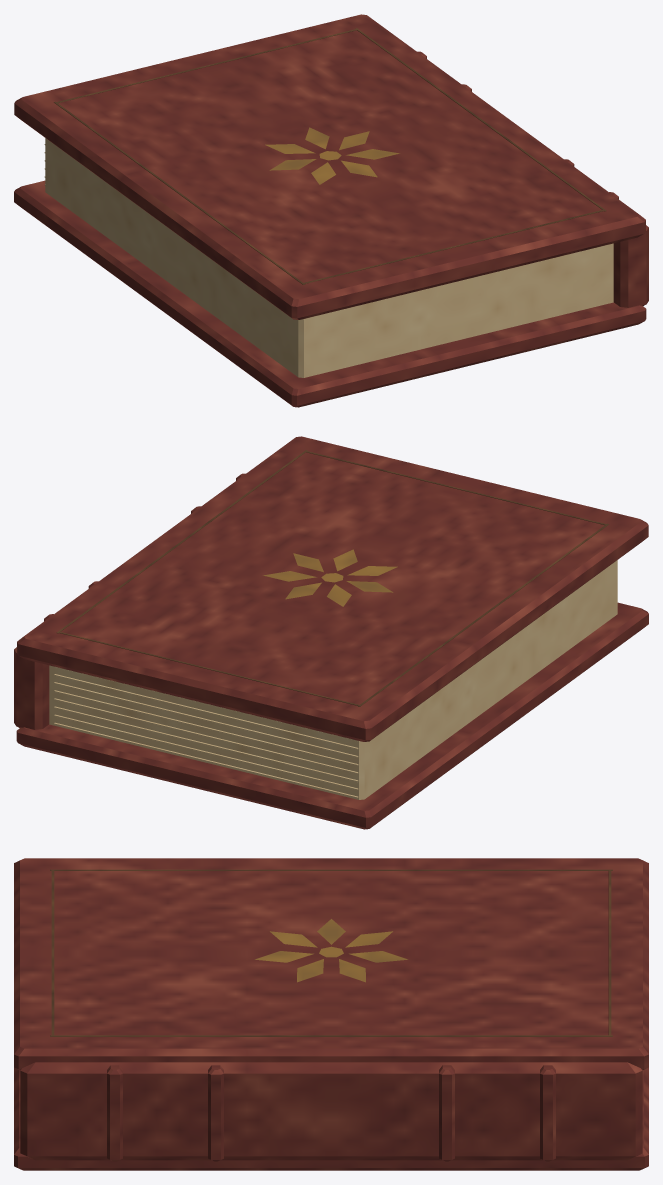
The model's file is Book_SevenPetal.obj.
The picture shows the model from 3 angles, top to bottom: view 1: azimuth 30°, elevation 25°; view 2: azimuth 150°, elevation 25°; view 3: azimuth 270°, elevation 25°; orthographic projection. The views are drawn at different scales.
Parts seen in each view (by area): view 1: Book_SevenPetal_Mesh; view 2: Book_SevenPetal_Mesh; view 3: Book_SevenPetal_Mesh.
Part boxes in pixels (<box>): Book_SevenPetal_Mesh: <box>14,14,648,407</box>; Book_SevenPetal_Mesh: <box>14,436,648,829</box>; Book_SevenPetal_Mesh: <box>14,858,648,1170</box>.
Bounding box in the file's own units: 0.332 × 0.094 × 0.44.
Materials: 5 (5 with a texture image).
